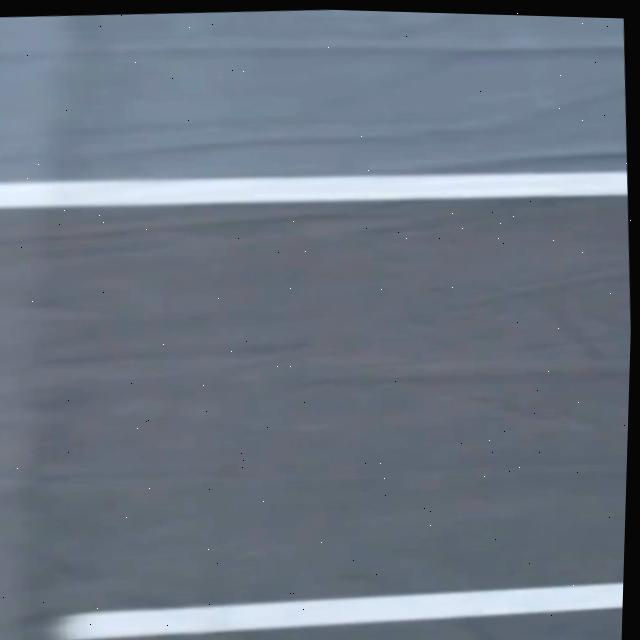center: (47, 582, 623, 640)
left: (0, 170, 628, 207)
